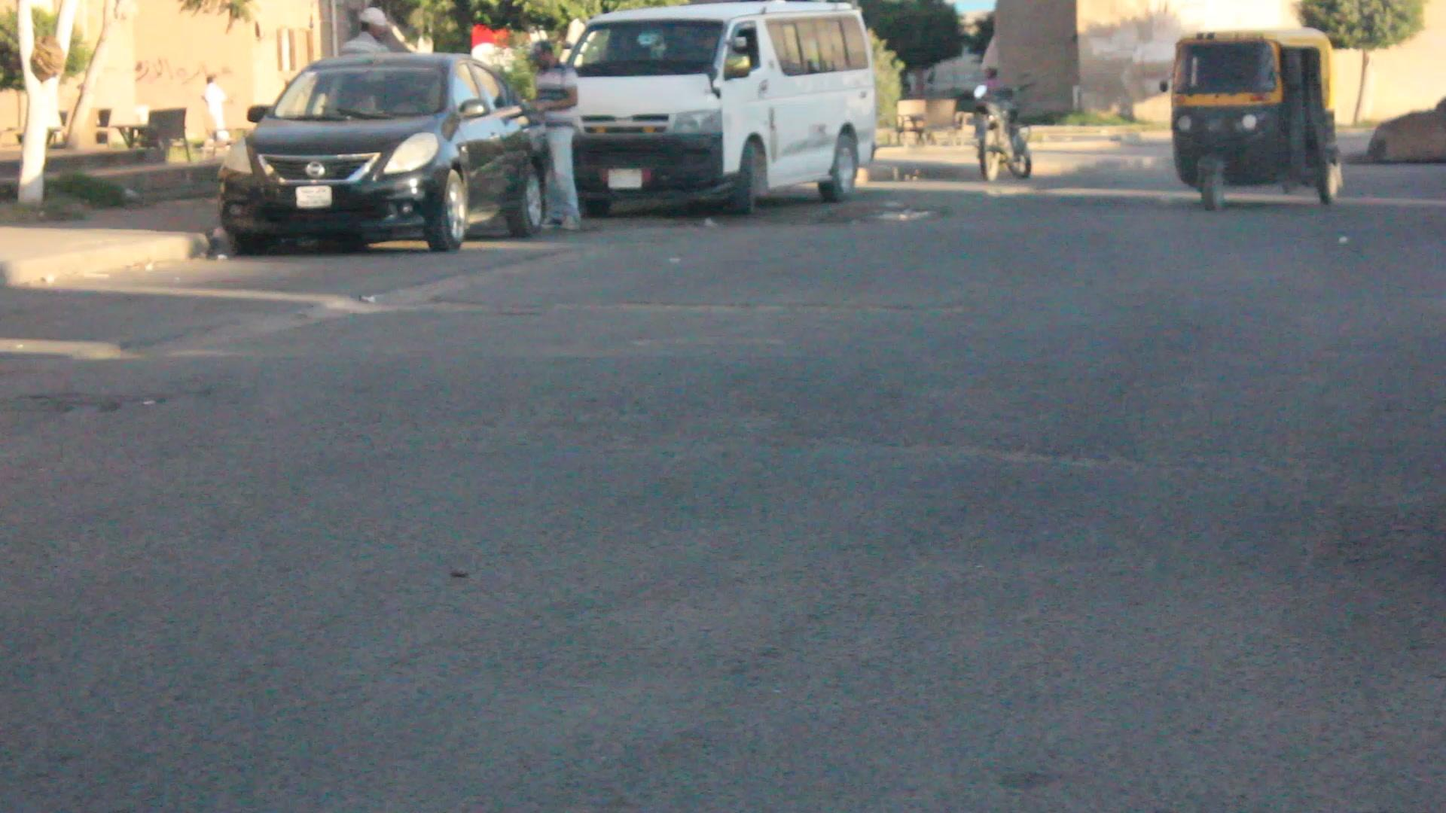Bump: (254, 341, 1446, 495)
